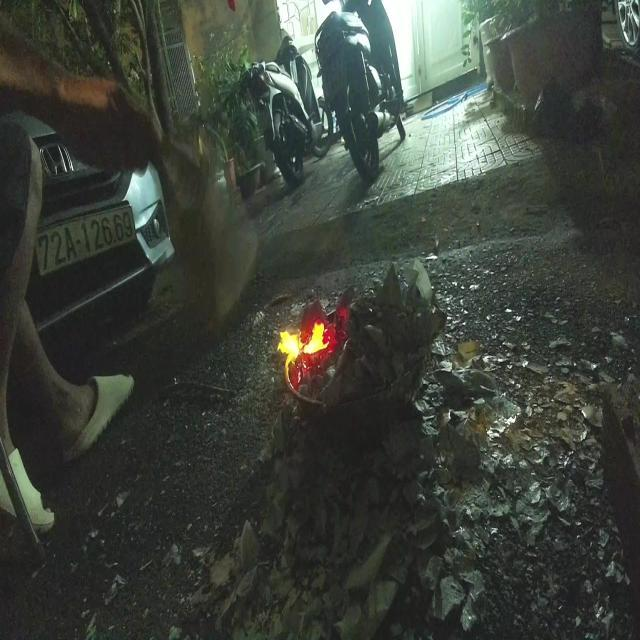Fire: (275, 319, 333, 362)
